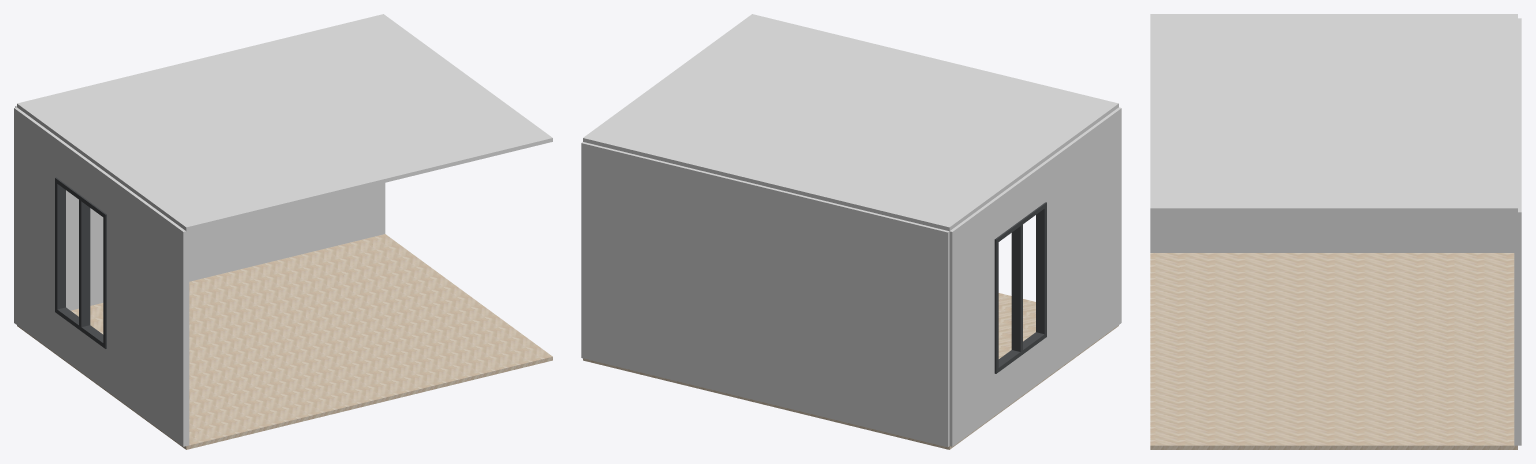
Rendered from clodis_room.glb.
3 renders of one model, left to right at view 1: azimuth 30°, elevation 25°; view 2: azimuth 150°, elevation 25°; view 3: azimuth 270°, elevation 25°, orthographic. The views are drawn at different scales.
Visible parts, largest first — view 1: Ceiling, Floor, LeftWall_Front, BackWall, LeftWall_Back, LeftWall_WindowTop, LeftWall_WindowBottom, WindowFrame_Center, WindowFrame_Right, WindowFrame_Bottom, WindowFrame_Left; view 2: BackWall, Ceiling, LeftWall_Front, LeftWall_Back, Floor, LeftWall_WindowTop, LeftWall_WindowBottom, WindowFrame_Center, WindowFrame_Left, WindowFrame_Right, WindowFrame_Bottom; view 3: Ceiling, Floor, LeftWall_Front, LeftWall_WindowBottom, LeftWall_Back, BackWall.
Part boxes in pixels (x1,y1,x2,y2): Ceiling: (17, 14, 552, 231); Floor: (17, 234, 552, 449); LeftWall_Front: (107, 175, 189, 446); BackWall: (15, 105, 385, 310); LeftWall_Back: (14, 107, 58, 353); LeftWall_WindowTop: (56, 138, 109, 213); LeftWall_WindowBottom: (56, 313, 106, 390); WindowFrame_Center: (79, 200, 90, 327); WindowFrame_Right: (55, 177, 65, 309); WindowFrame_Bottom: (55, 307, 103, 347); WindowFrame_Left: (103, 213, 106, 348); BackWall: (581, 142, 949, 447); Ceiling: (583, 14, 1118, 231); LeftWall_Front: (1043, 107, 1121, 378); LeftWall_Back: (949, 200, 994, 446); Floor: (583, 293, 1118, 449); LeftWall_WindowTop: (992, 163, 1045, 238); LeftWall_WindowBottom: (994, 338, 1045, 415); WindowFrame_Center: (1011, 224, 1022, 351); WindowFrame_Left: (1036, 203, 1046, 334); WindowFrame_Right: (994, 237, 998, 373); WindowFrame_Bottom: (994, 332, 1046, 373); Ceiling: (1150, 14, 1517, 212); Floor: (1150, 253, 1517, 449); LeftWall_Front: (1150, 212, 1315, 252); LeftWall_WindowBottom: (1315, 212, 1425, 252); LeftWall_Back: (1426, 212, 1514, 252); BackWall: (1514, 18, 1521, 445).
Size of the model in its own units: 5.06 by 2.9 by 4.04.
Materials: 5 (1 with a texture image).
